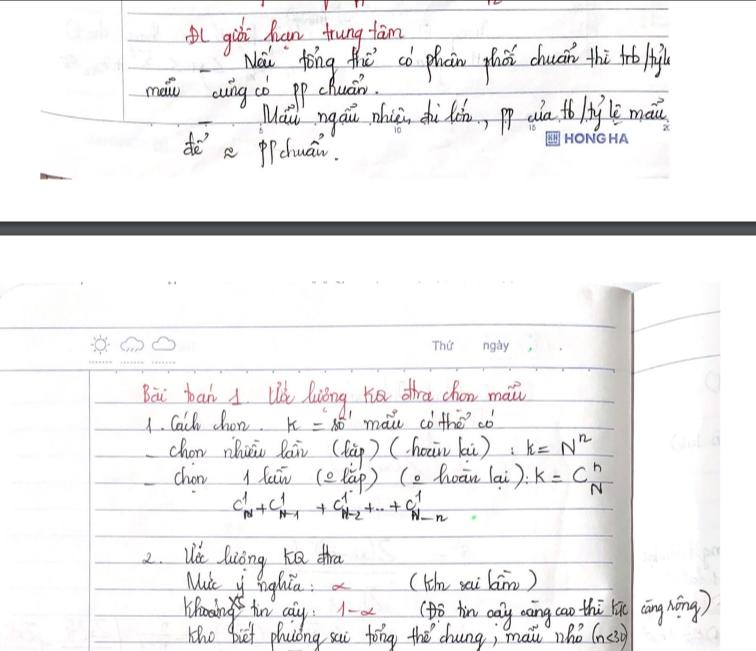text: (241, 38, 673, 84), (260, 92, 670, 139), (141, 461, 605, 499), (140, 376, 529, 421), (146, 433, 594, 472), (184, 618, 630, 651), (418, 587, 716, 633), (141, 408, 495, 437), (141, 71, 370, 114), (182, 17, 407, 58), (228, 489, 452, 524), (181, 539, 347, 582), (180, 130, 332, 169), (181, 595, 310, 633), (407, 567, 540, 598), (183, 570, 304, 603), (564, 132, 630, 147), (334, 599, 380, 620), (430, 338, 455, 355), (482, 339, 510, 354), (330, 581, 352, 593), (140, 551, 156, 566)
